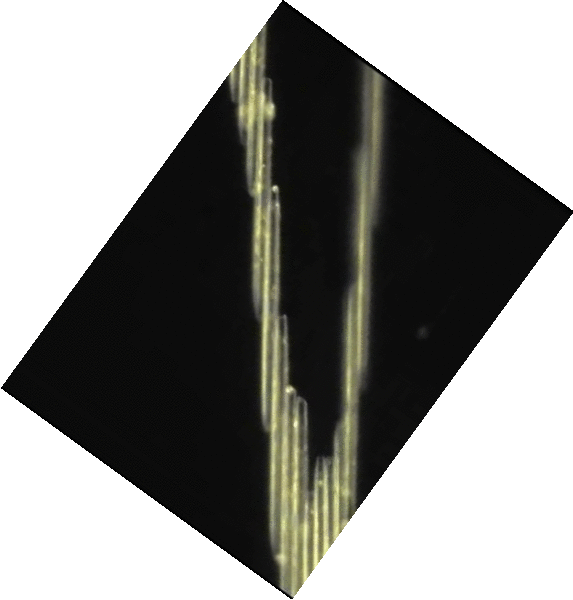bacilleria: (255, 76, 274, 319), (261, 187, 277, 431), (343, 293, 357, 516), (270, 319, 283, 558), (282, 385, 294, 591), (358, 150, 369, 369), (294, 397, 306, 592), (364, 64, 379, 219), (248, 47, 260, 197), (334, 425, 347, 528), (325, 455, 336, 545), (316, 457, 324, 563), (240, 54, 248, 141), (307, 491, 314, 573)
